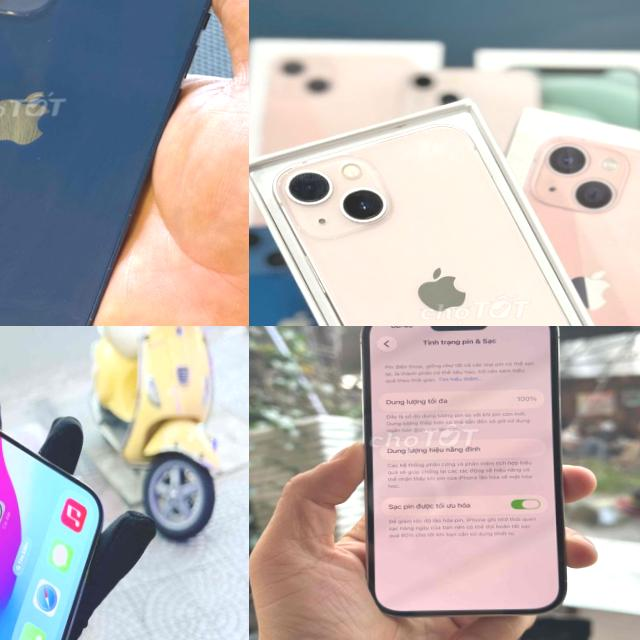gen_12_13: (0, 0, 249, 326), (252, 121, 614, 326), (0, 326, 111, 640)
gen_14: (358, 326, 568, 632)
